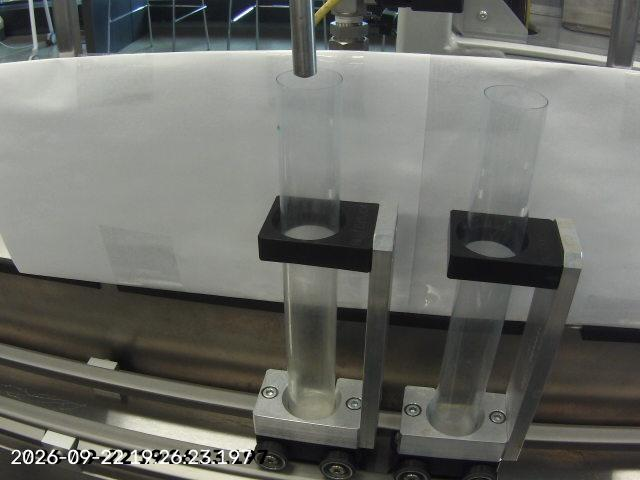vial: (421, 68, 533, 442), (259, 67, 368, 434)
